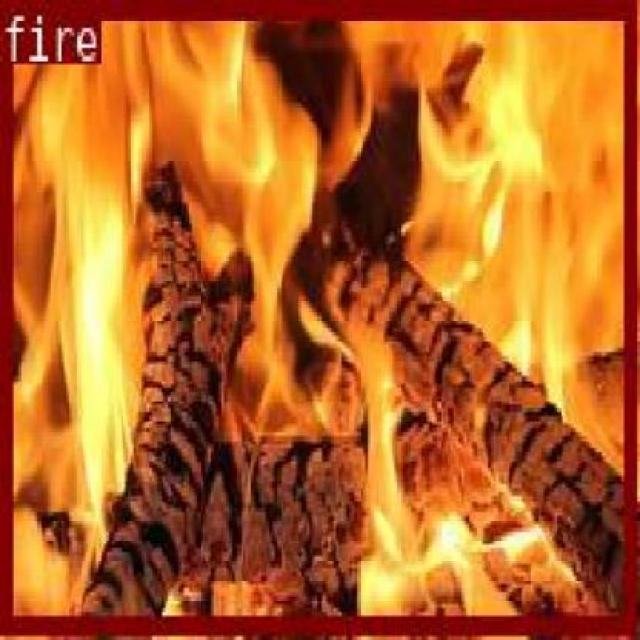Fire: (0, 0, 632, 632)
